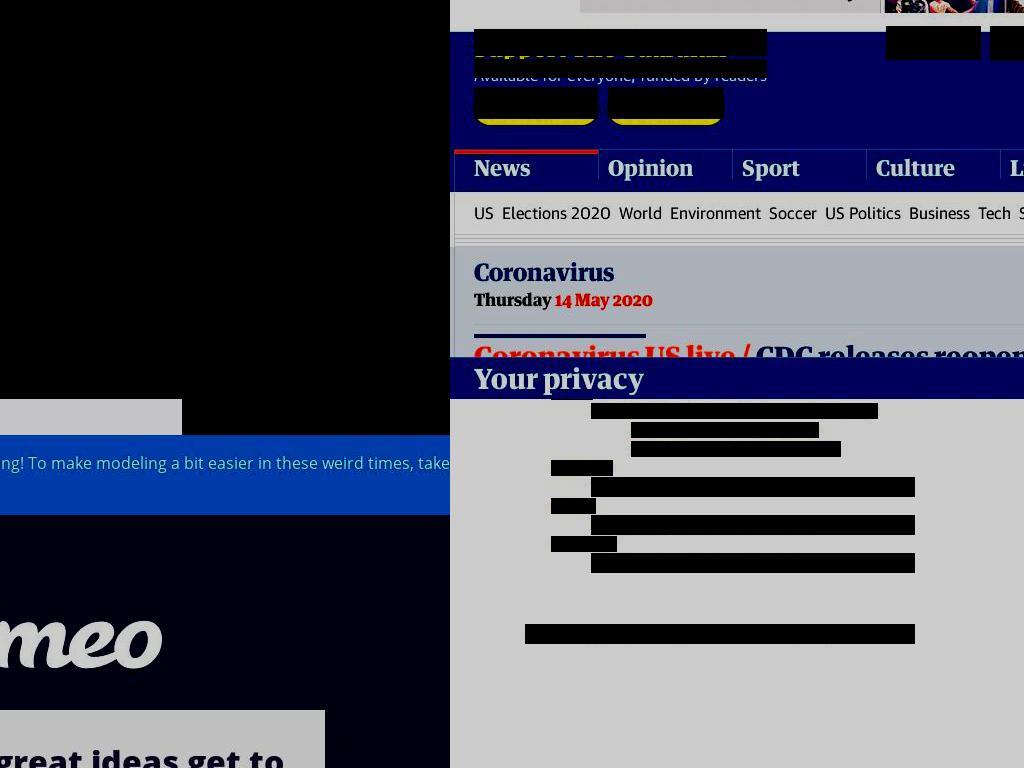button: (0, 451, 450, 499), (454, 144, 598, 186), (598, 144, 732, 186), (732, 144, 866, 186), (866, 144, 1000, 186), (296, 399, 450, 435), (498, 186, 615, 228), (474, 251, 618, 281), (666, 186, 765, 228), (182, 399, 296, 435), (474, 87, 598, 119), (608, 87, 724, 119), (821, 186, 905, 228), (886, 26, 981, 60), (905, 186, 974, 228), (765, 186, 821, 228), (615, 186, 666, 228), (974, 186, 1015, 228), (393, 79, 450, 109), (990, 26, 1024, 61), (470, 186, 498, 228)
field: (277, 3, 444, 25), (277, 47, 444, 69), (273, 85, 286, 98)
heading: (450, 241, 1024, 399), (474, 333, 1024, 399), (474, 358, 1024, 399), (474, 333, 751, 368), (0, 742, 293, 768), (474, 254, 614, 278)
iframe: (0, 515, 450, 768)
image: (0, 0, 450, 399), (180, 141, 276, 180), (565, 87, 597, 119), (691, 87, 723, 119), (997, 34, 1016, 52)
label: (182, 3, 277, 23), (182, 47, 277, 67), (289, 85, 375, 101)
link: (0, 451, 450, 499), (631, 441, 841, 457), (631, 422, 819, 438), (551, 536, 617, 552), (551, 460, 613, 476), (197, 180, 258, 196), (551, 498, 596, 514), (187, 88, 222, 100)
text: (474, 29, 767, 56), (525, 624, 915, 644), (591, 477, 915, 497), (591, 515, 915, 535), (591, 553, 915, 573), (474, 59, 767, 78), (297, 141, 450, 173), (591, 403, 878, 419), (474, 283, 552, 304), (486, 92, 564, 111), (620, 92, 690, 111), (613, 283, 653, 304), (575, 283, 610, 304), (555, 283, 572, 304)
